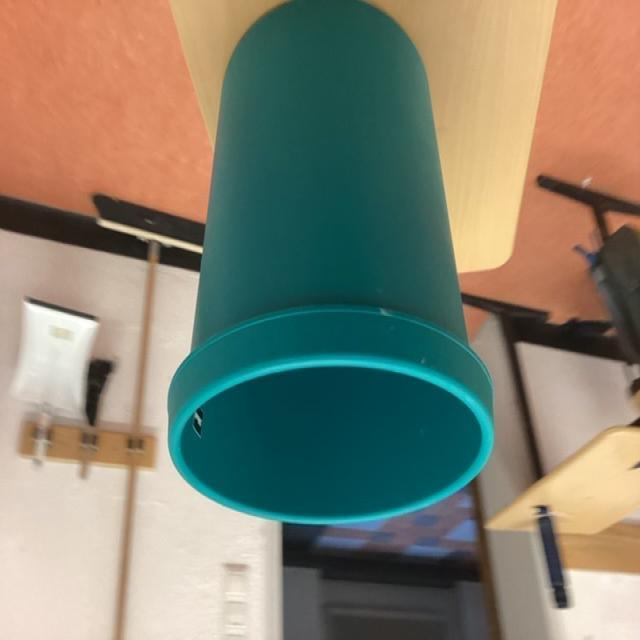garbage container: (130, 1, 515, 615)
